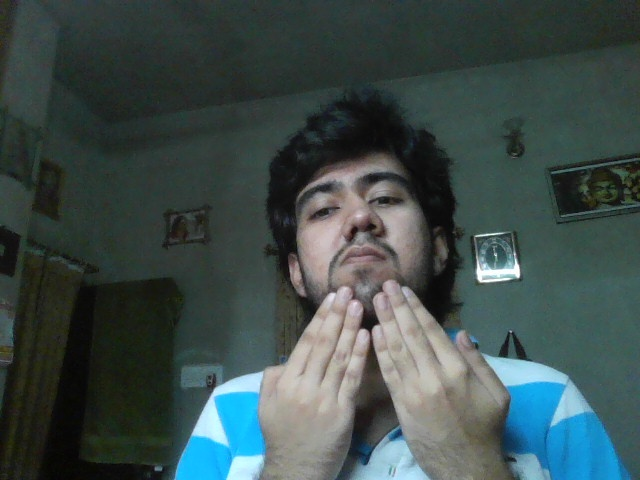ThankYou: (259, 279, 510, 480)
